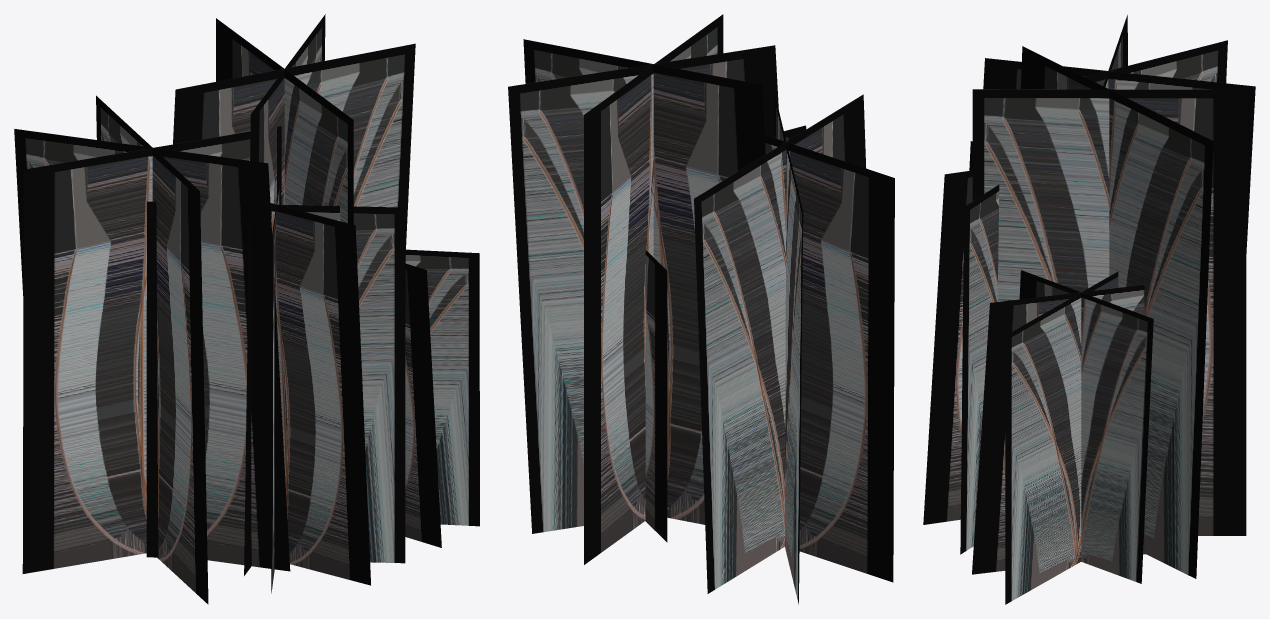
The model's file is PLANT-3.fbx.
3 renders of one model, left to right at view 1: azimuth 30°, elevation 25°; view 2: azimuth 150°, elevation 25°; view 3: azimuth 270°, elevation 25°, orthographic.
Parts seen in each view (by area): view 1: PLANT 4; view 2: PLANT 4; view 3: PLANT 4.
Boxes of the visible parts, x1,y1,x2,y2 form: PLANT 4: (14,14,479,604); PLANT 4: (508,14,894,604); PLANT 4: (923,15,1255,604).
Bounding box in the file's own units: 354 × 399 × 262.
1 material, 1 textured.
